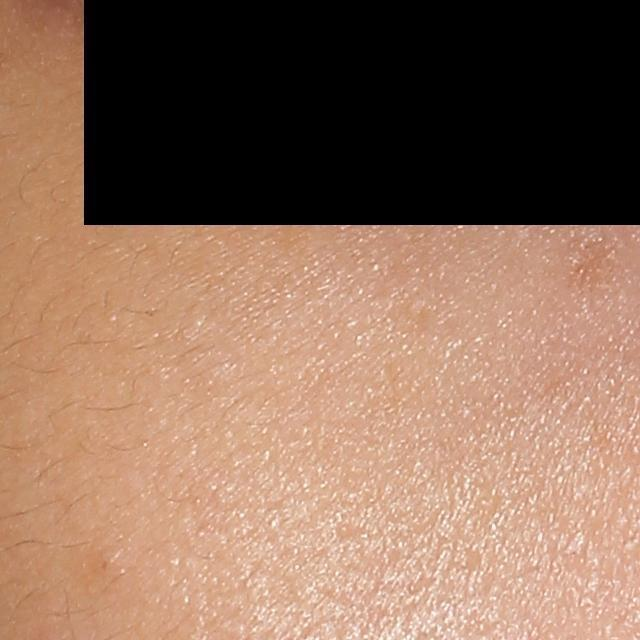melasma: (562, 236, 614, 301)
